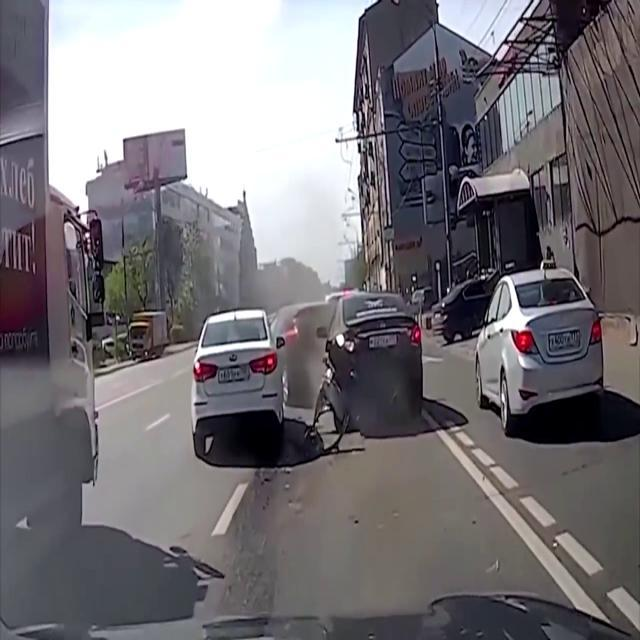multiple_accident: (177, 258, 440, 473)
